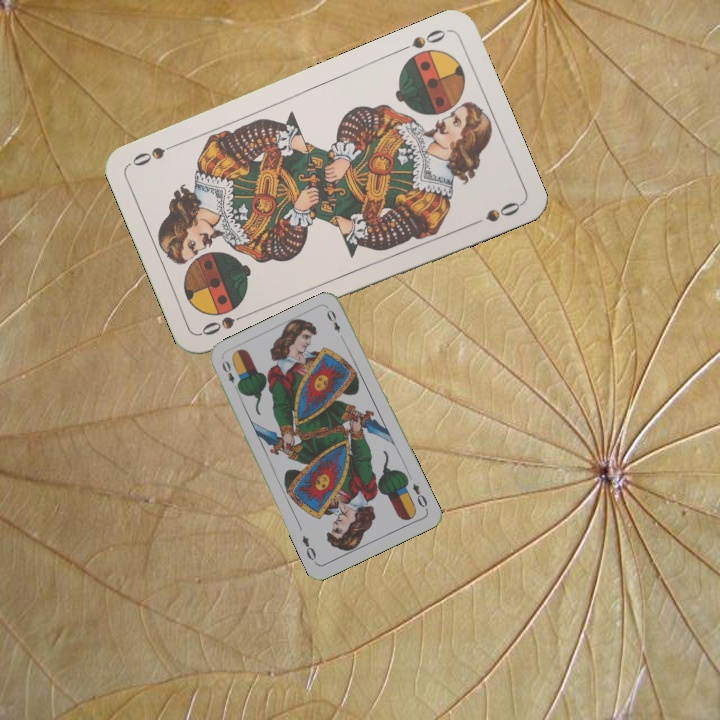EO: (218, 356, 242, 394), (408, 479, 431, 513)
SO: (197, 307, 254, 338), (394, 25, 451, 55)
